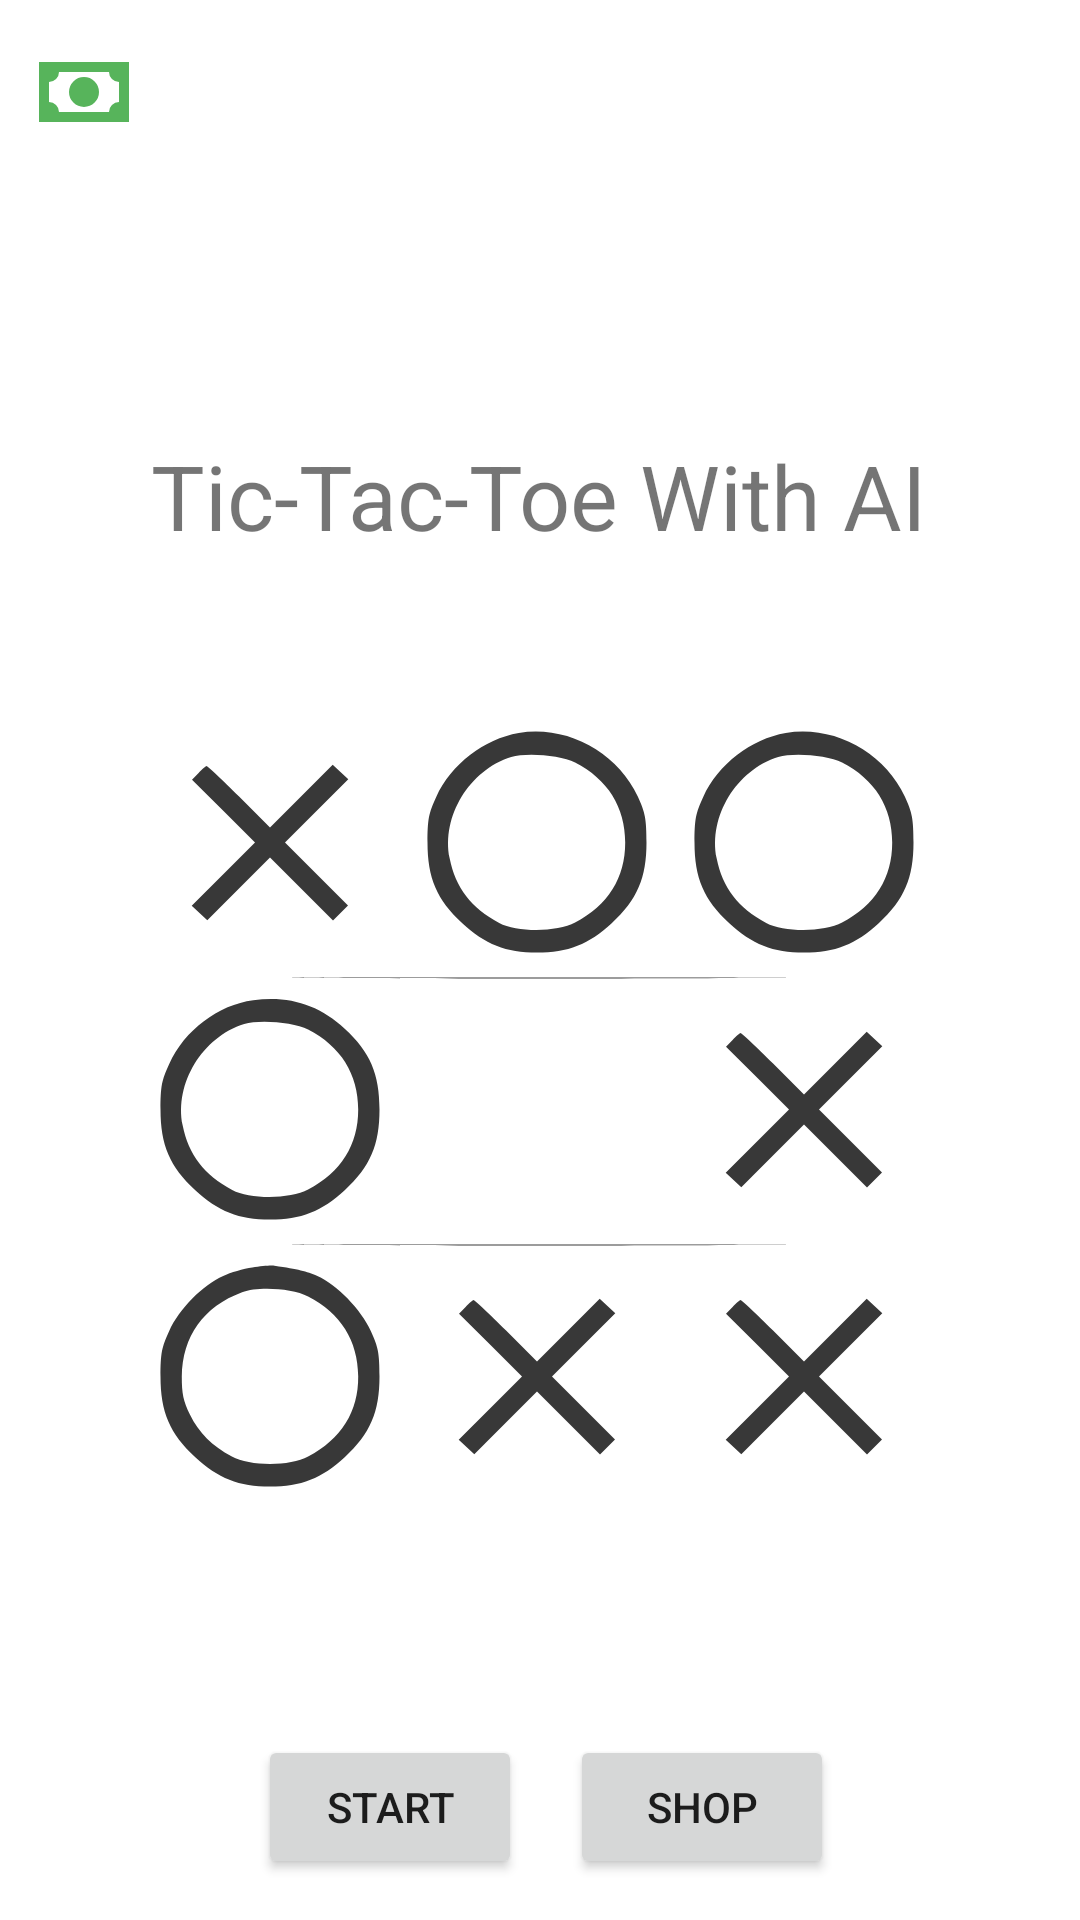

Icon click points for this 1080x1920 phone screenshot, format (x,y):
money: (84,92)
